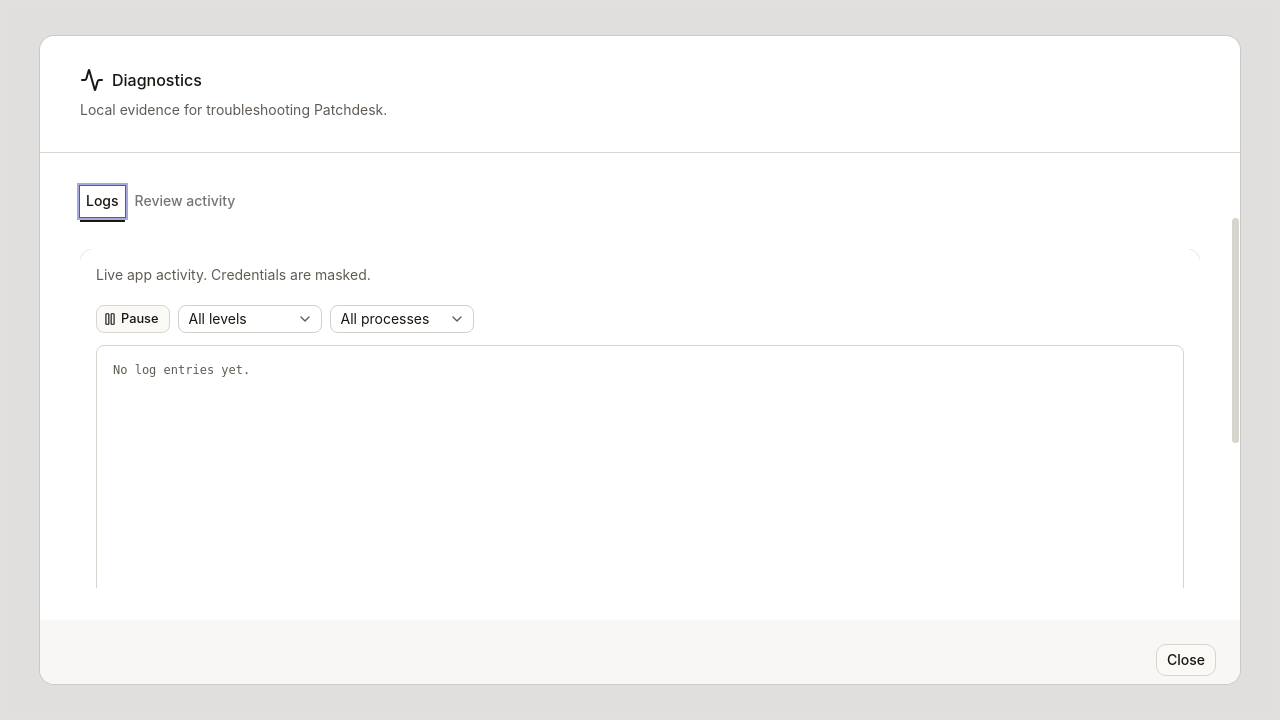
Test: DiagnosticsModal Review activity › shows successful empty Review activity only after loading the active profile
Click the tab "Review activity": (185, 201) [129, 186, 241, 216]
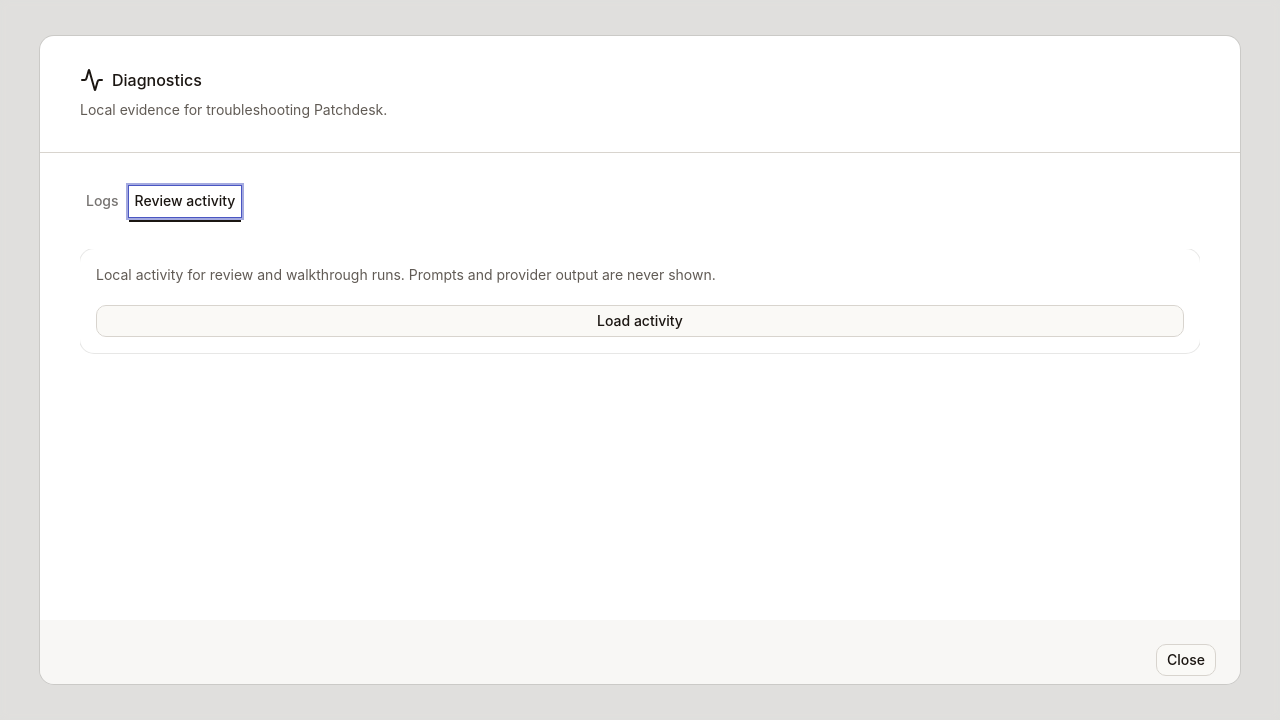
Expected: the message "No log entries yet." is gone
Click the button "Load activity": (640, 321) [96, 305, 1184, 337]
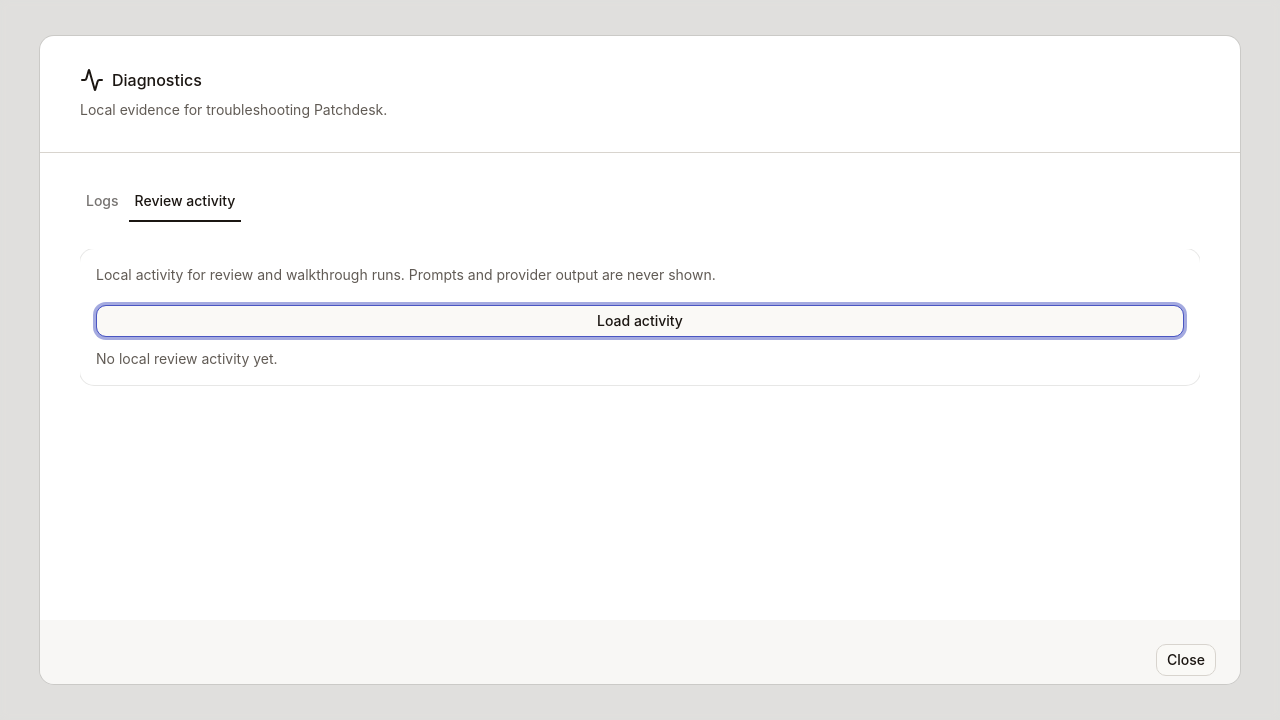
Expected: the number of messages is 1, [96, 350, 278, 367]
